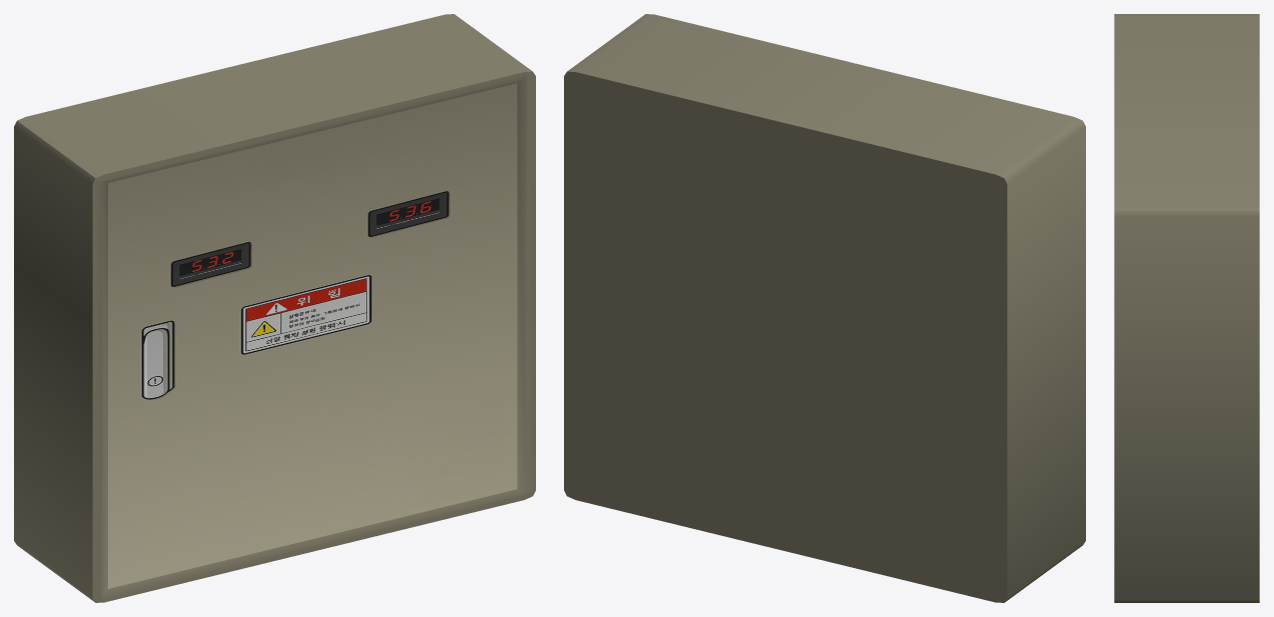
The picture shows the model from 3 angles, left to right: view 1: azimuth 30°, elevation 25°; view 2: azimuth 150°, elevation 25°; view 3: azimuth 270°, elevation 25°; orthographic projection. The views are drawn at different scales.
Visible parts, largest first — view 1: RM1-WH06W065D020; view 2: RM1-WH06W065D020; view 3: RM1-WH06W065D020.
Boxes of the visible parts, x1,y1,x2,y2 form: RM1-WH06W065D020: (14,14,535,602); RM1-WH06W065D020: (564,14,1085,602); RM1-WH06W065D020: (1114,14,1259,602).
Size of the model in its own units: 0.65 by 0.6 by 0.2.
2 materials, 1 textured.
